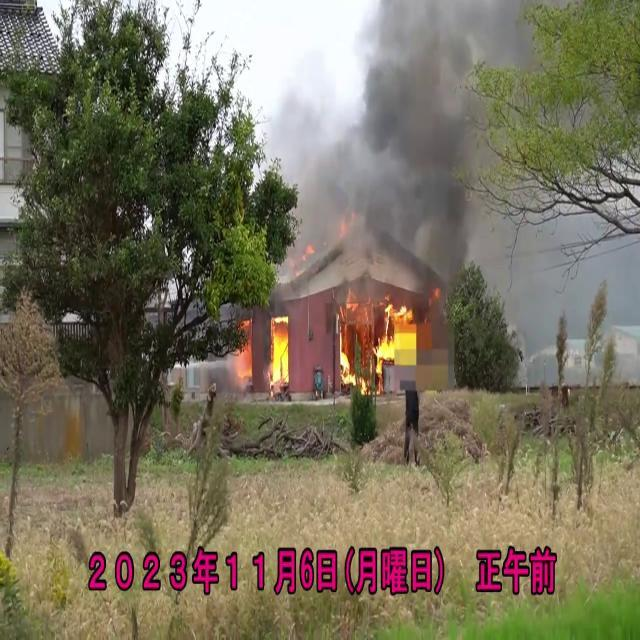Fire: (335, 289, 422, 386), (270, 310, 292, 391)
Smoke: (281, 0, 508, 290)
